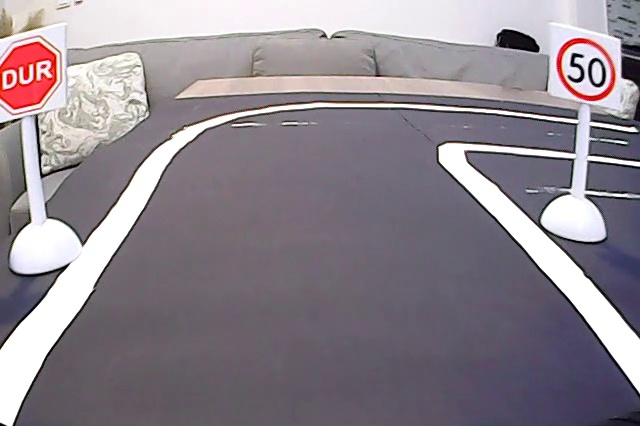speed limit 50: (552, 26, 624, 109)
stop sign: (5, 38, 69, 115)
